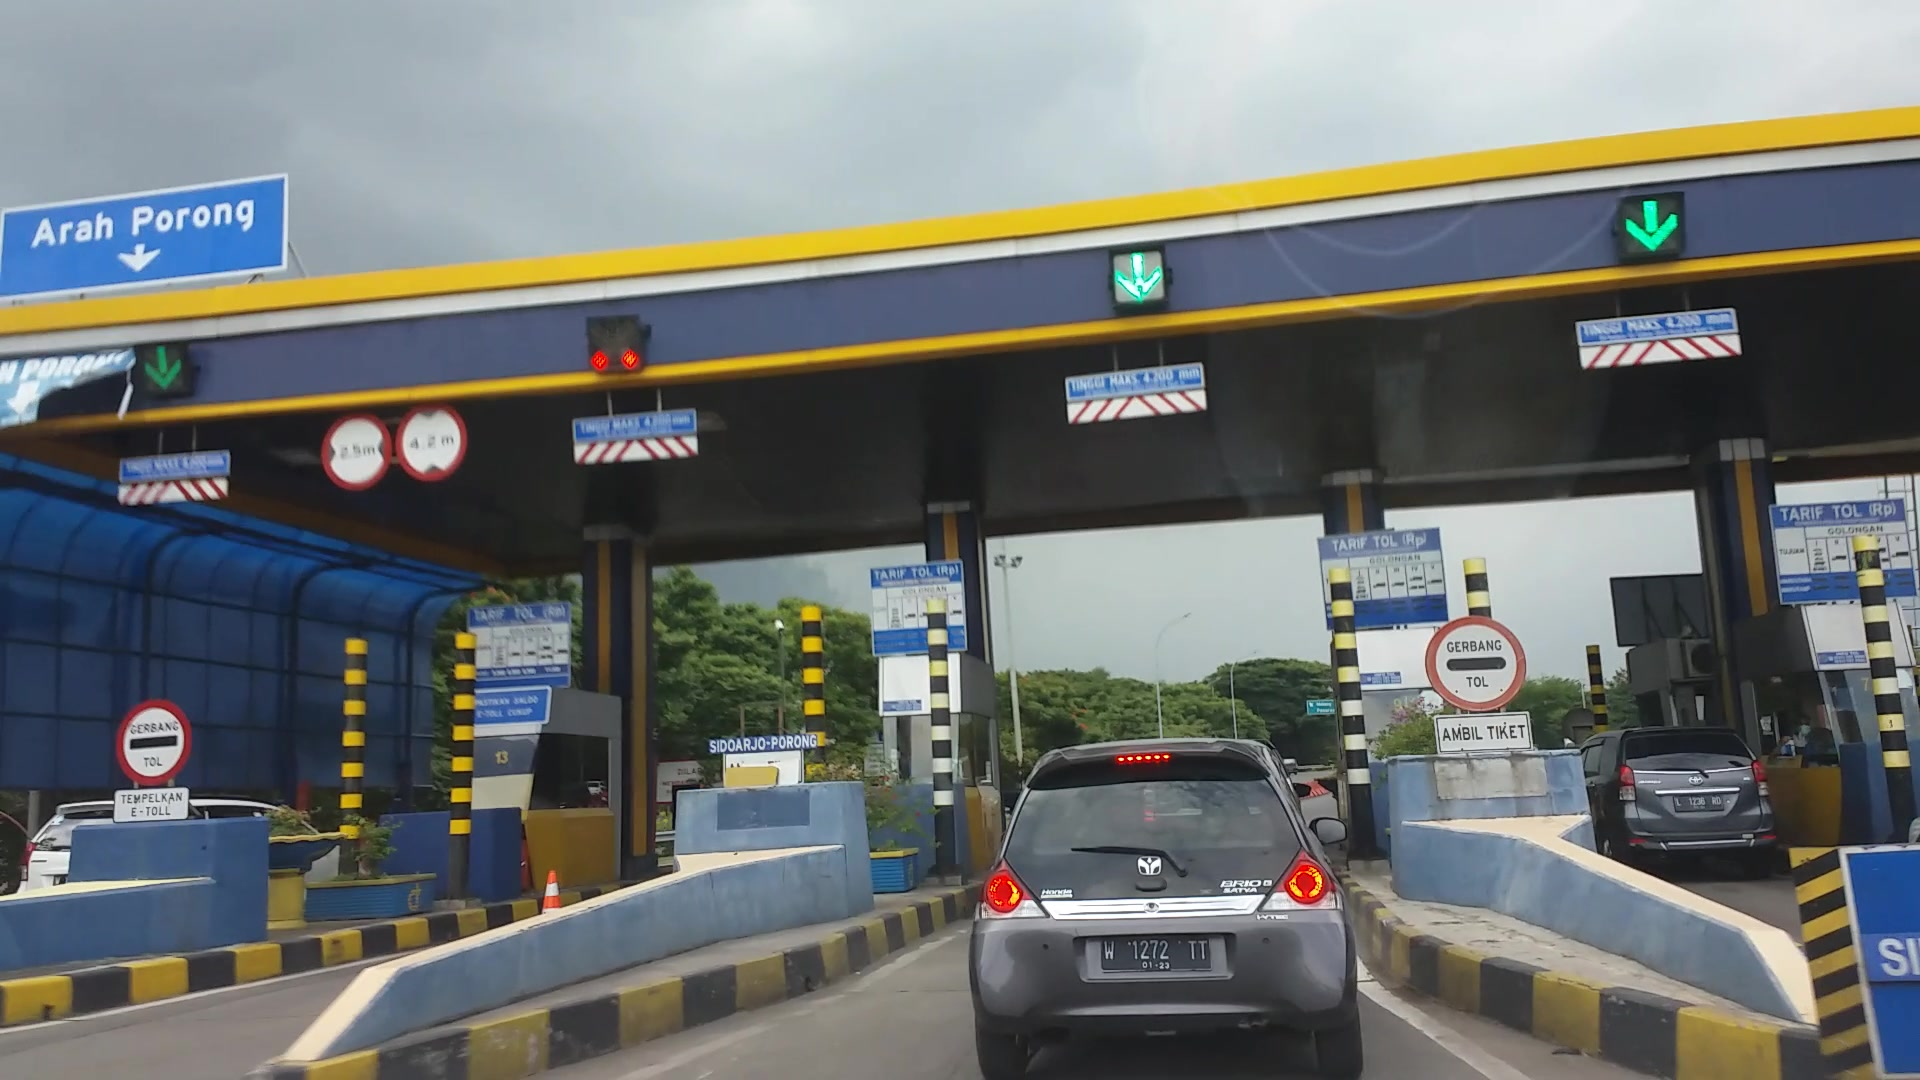plate_positive: (1101, 938, 1211, 971)
